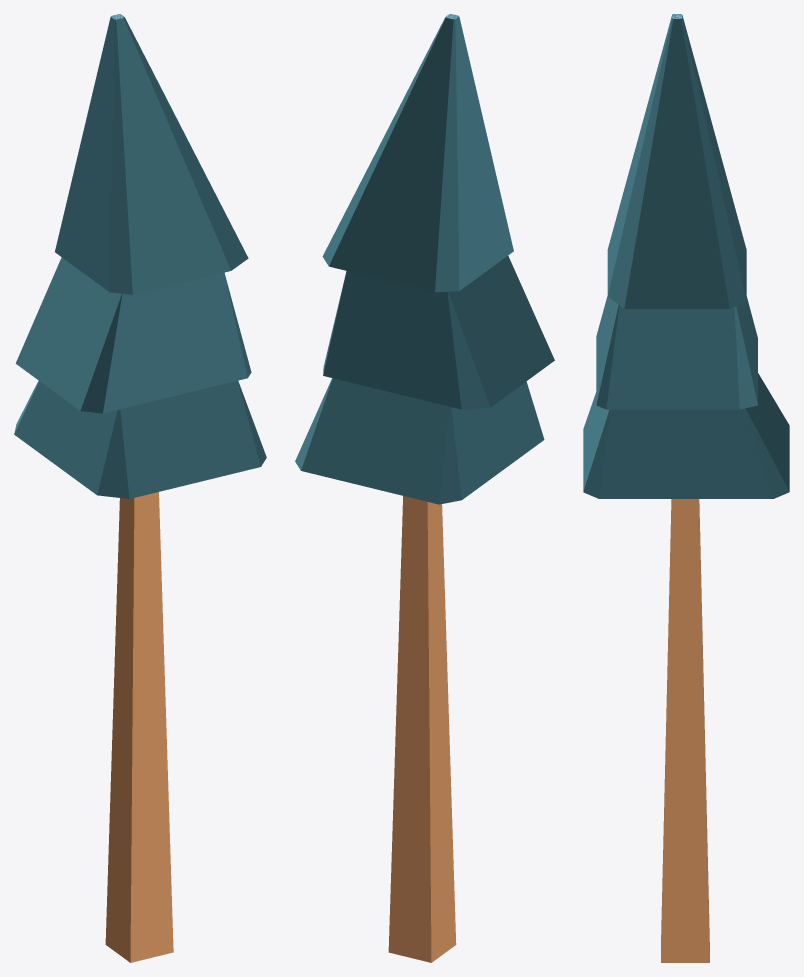
The model's file is tree_pine_tallSquare.obj.
3 renders of one model, left to right at view 1: azimuth 30°, elevation 25°; view 2: azimuth 150°, elevation 25°; view 3: azimuth 270°, elevation 25°, orthographic.
Parts seen in each view (by area): view 1: tree_pine_tallSquare; view 2: tree_pine_tallSquare; view 3: tree_pine_tallSquare.
Boxes of the visible parts, x1,y1,x2,y2 form: tree_pine_tallSquare: [14, 14, 266, 962]; tree_pine_tallSquare: [295, 14, 554, 962]; tree_pine_tallSquare: [583, 14, 789, 962].
Size of the model in its own units: 3.86 by 19.35 by 3.92.
